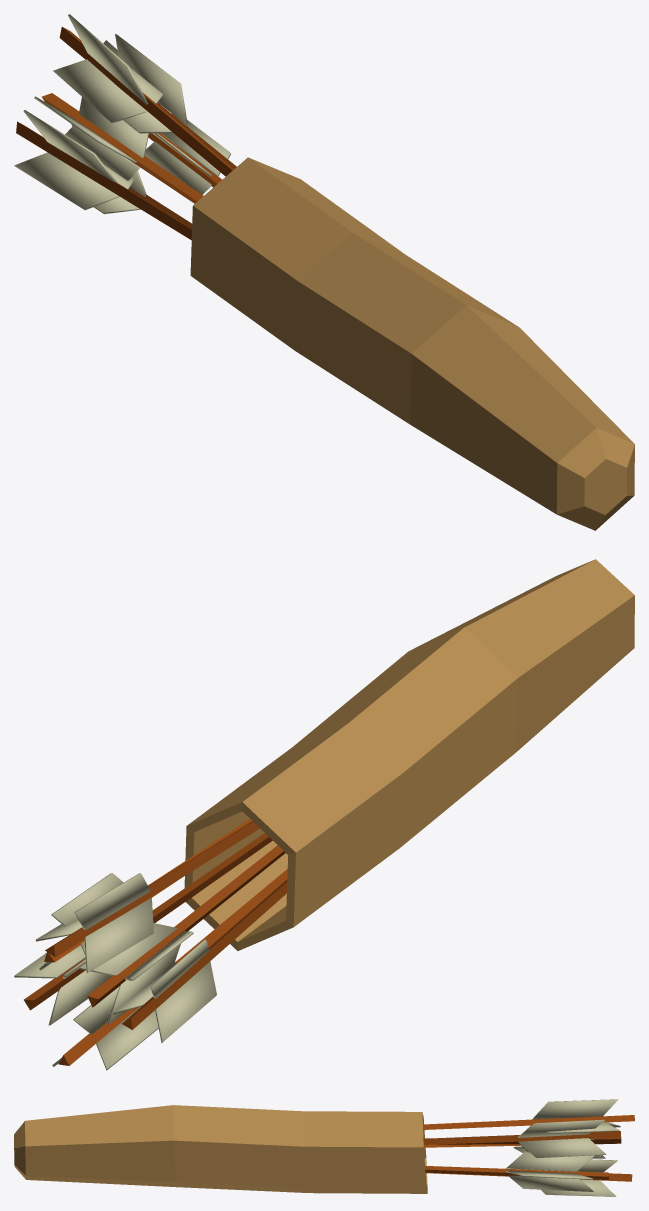
File: ArrowQuiver.fbx
The picture shows the model from 3 angles, top to bottom: view 1: azimuth 30°, elevation 25°; view 2: azimuth 150°, elevation 25°; view 3: azimuth 270°, elevation 25°; orthographic projection. The views are drawn at different scales.
Visible parts, largest first — view 1: Cylinder.291; view 2: Cylinder.291; view 3: Cylinder.291.
Part boxes in pixels (left/top/right/bottom): Cylinder.291: left=14, top=14, right=634, bottom=530; Cylinder.291: left=14, top=559, right=634, bottom=1070; Cylinder.291: left=14, top=1099, right=634, bottom=1196.
Bounding box in the file's own units: 52.65 × 53.26 × 323.
